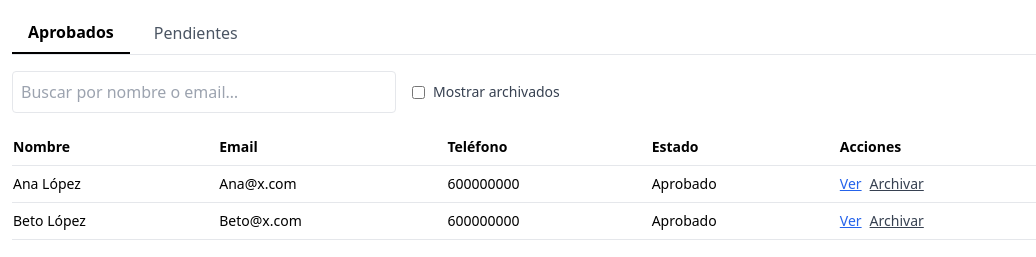
Test: AgendaTabs › search filters by name
This screenshot has width=1036, height=257.
Expected: the text "Ana López" is shown, [12, 166, 218, 202]
Type "Beto" into the field with placeholder "Buscar por nombre o email…" at (204, 92), box [12, 71, 396, 113]
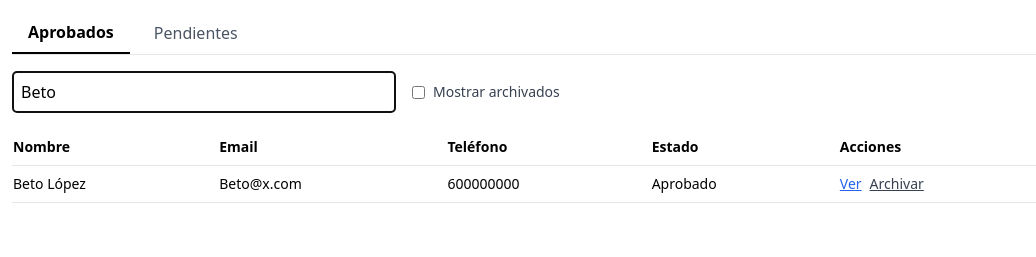
Expected: the text "Beto López" is shown, [12, 166, 218, 202]
Expected: the text "Ana López" is gone
